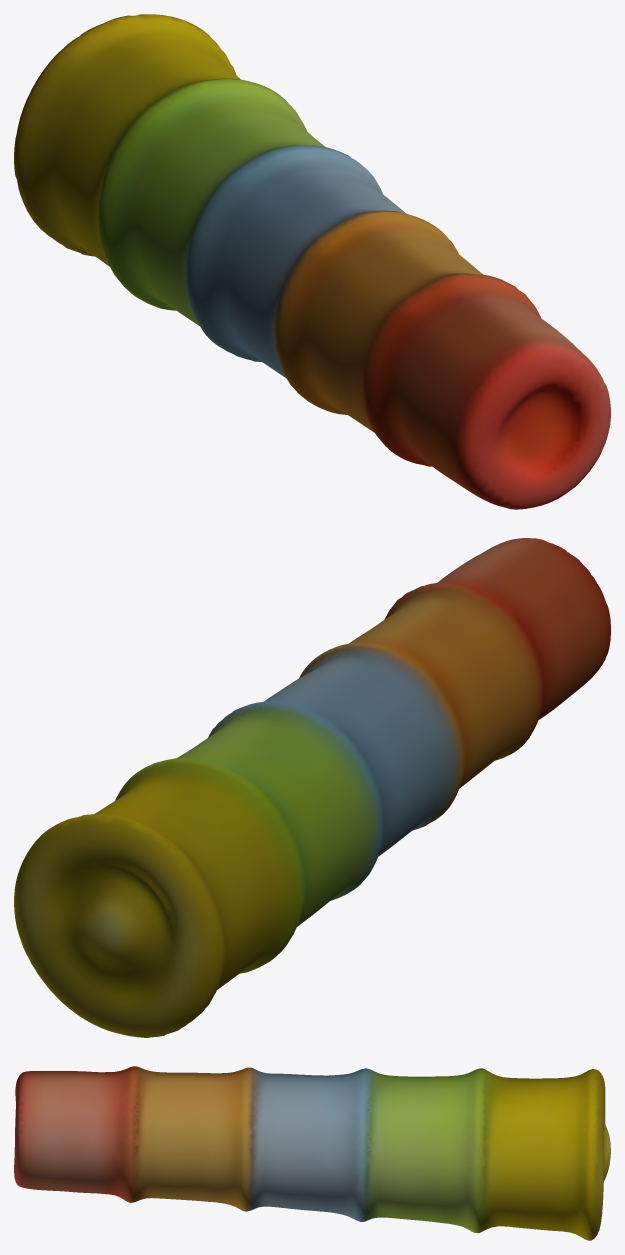
File: stucking_cups.glb
The picture shows the model from 3 angles, top to bottom: view 1: azimuth 30°, elevation 25°; view 2: azimuth 150°, elevation 25°; view 3: azimuth 270°, elevation 25°; orthographic projection. The views are drawn at different scales.
Bounding box in the file's own units: 0.2874 × 0.2852 × 0.9998.
